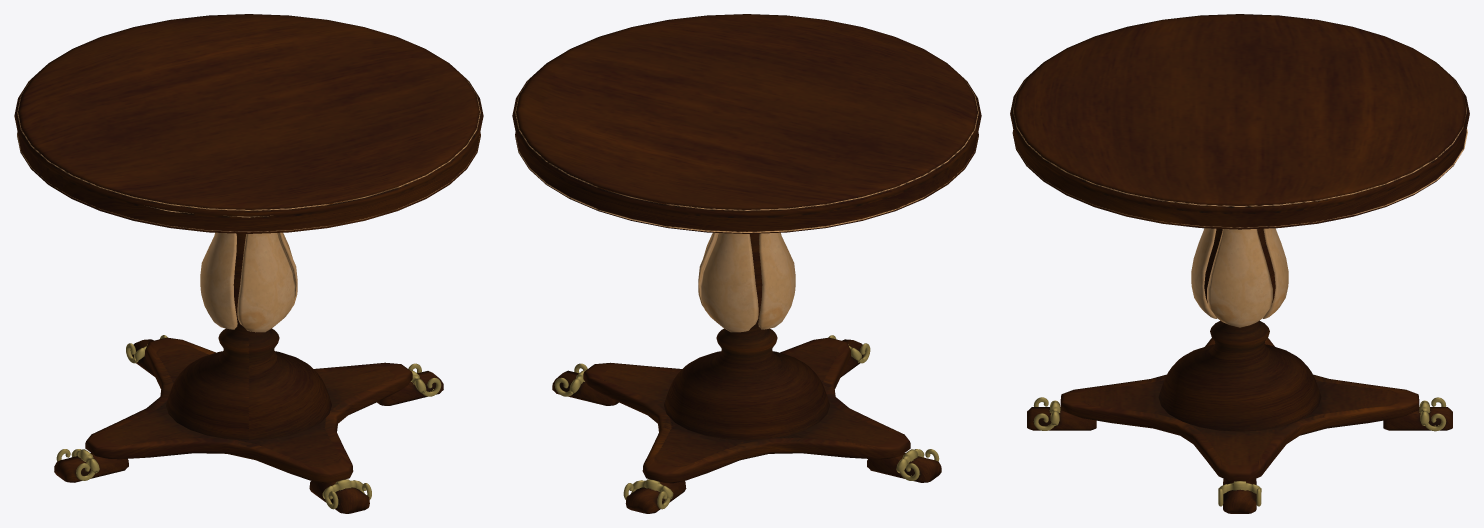
The model's file is Desk_Circle.fbx.
3 renders of one model, left to right at view 1: azimuth 30°, elevation 25°; view 2: azimuth 150°, elevation 25°; view 3: azimuth 270°, elevation 25°, orthographic. The views are drawn at different scales.
Parts seen in each view (by area): view 1: desk_circle, Cylinder001; view 2: desk_circle, Cylinder001; view 3: desk_circle, Cylinder001.
Boxes of the visible parts, bbox=[...] form: desk_circle: bbox=[14, 14, 483, 483]; Cylinder001: bbox=[54, 232, 443, 513]; desk_circle: bbox=[512, 14, 981, 483]; Cylinder001: bbox=[552, 232, 941, 513]; desk_circle: bbox=[1010, 14, 1469, 481]; Cylinder001: bbox=[1027, 228, 1452, 513].
Size of the model in its own units: 29.41 by 22.25 by 29.4.
2 materials, 2 textured.
